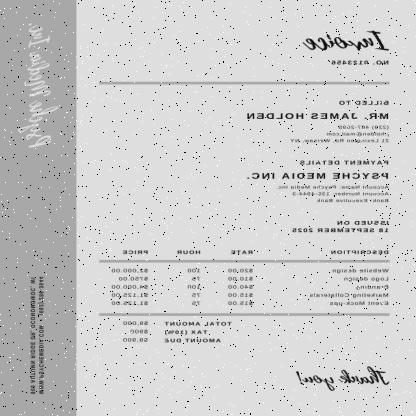Paragraph: (244, 157, 392, 206), (244, 98, 393, 146), (299, 28, 393, 68), (118, 318, 235, 346), (293, 363, 395, 393), (288, 217, 392, 237)
Table: (100, 245, 393, 314)
